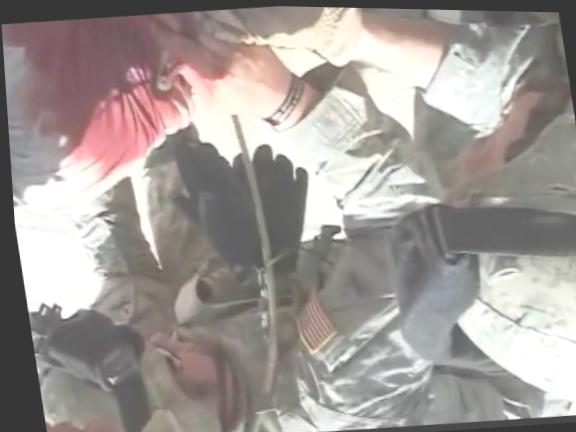Fire: (1, 14, 187, 177)
